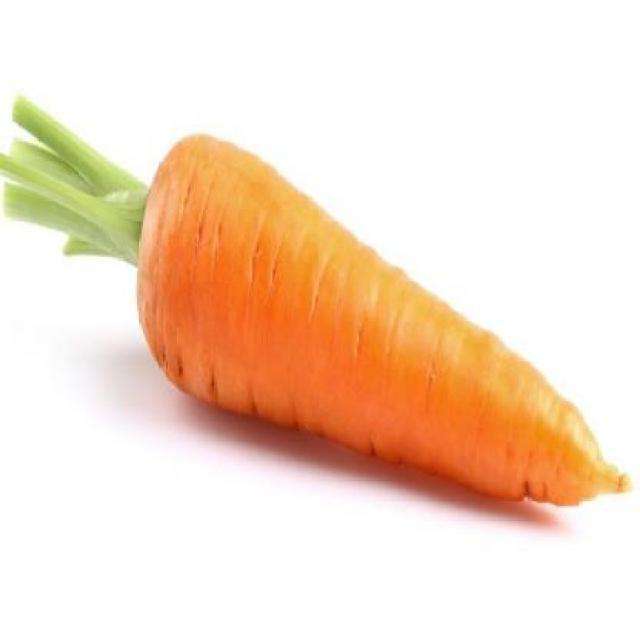carrot: (0, 98, 626, 503)
